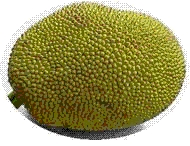jackfruit: (7, 0, 187, 135)
